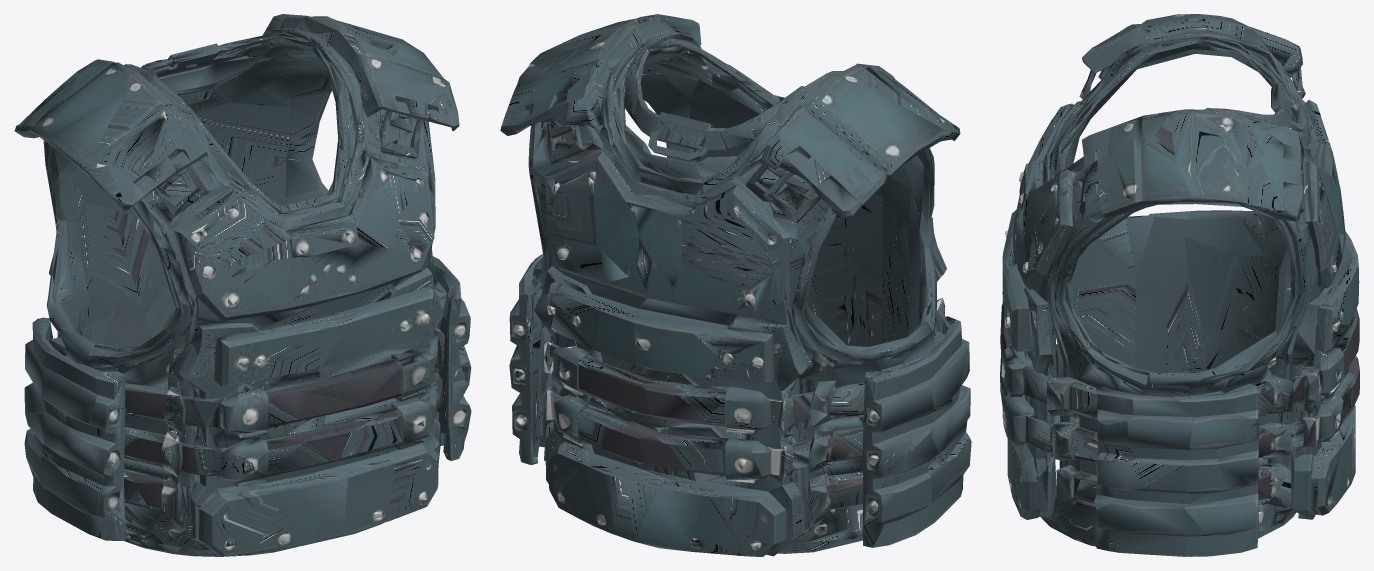
File: bzArmorMeshy.3e740414.glb
The picture shows the model from 3 angles, left to right: view 1: azimuth 30°, elevation 25°; view 2: azimuth 150°, elevation 25°; view 3: azimuth 270°, elevation 25°; orthographic projection. The views are drawn at different scales.
Parts seen in each view (by area): view 1: output_unwrapped; view 2: output_unwrapped; view 3: output_unwrapped.
Boxes of the visible parts, x1,y1,x2,y2 form: output_unwrapped: [14, 14, 471, 556]; output_unwrapped: [500, 14, 971, 556]; output_unwrapped: [1000, 14, 1359, 556].
Size of the model in its own units: 1.82 by 1.9 by 1.48.
Materials: 1 (1 with a texture image).
